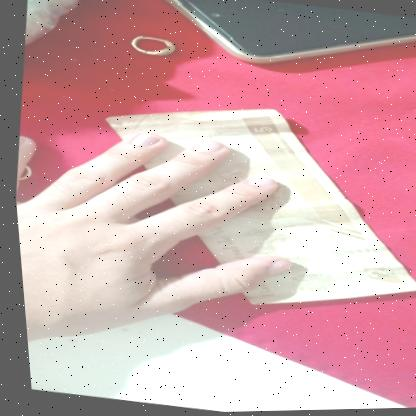five-back-vef: (78, 84, 416, 331)
